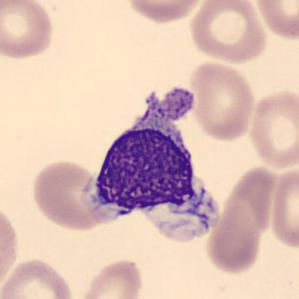Basophil: (78, 80, 224, 240)
Monocyte: (77, 80, 229, 246)
RBC: (28, 158, 117, 232), (187, 60, 256, 144), (187, 0, 270, 65), (247, 86, 298, 170), (0, 0, 57, 62), (0, 256, 77, 299), (77, 257, 146, 299), (267, 164, 299, 251), (123, 0, 206, 25), (0, 200, 21, 296), (251, 0, 299, 42)
